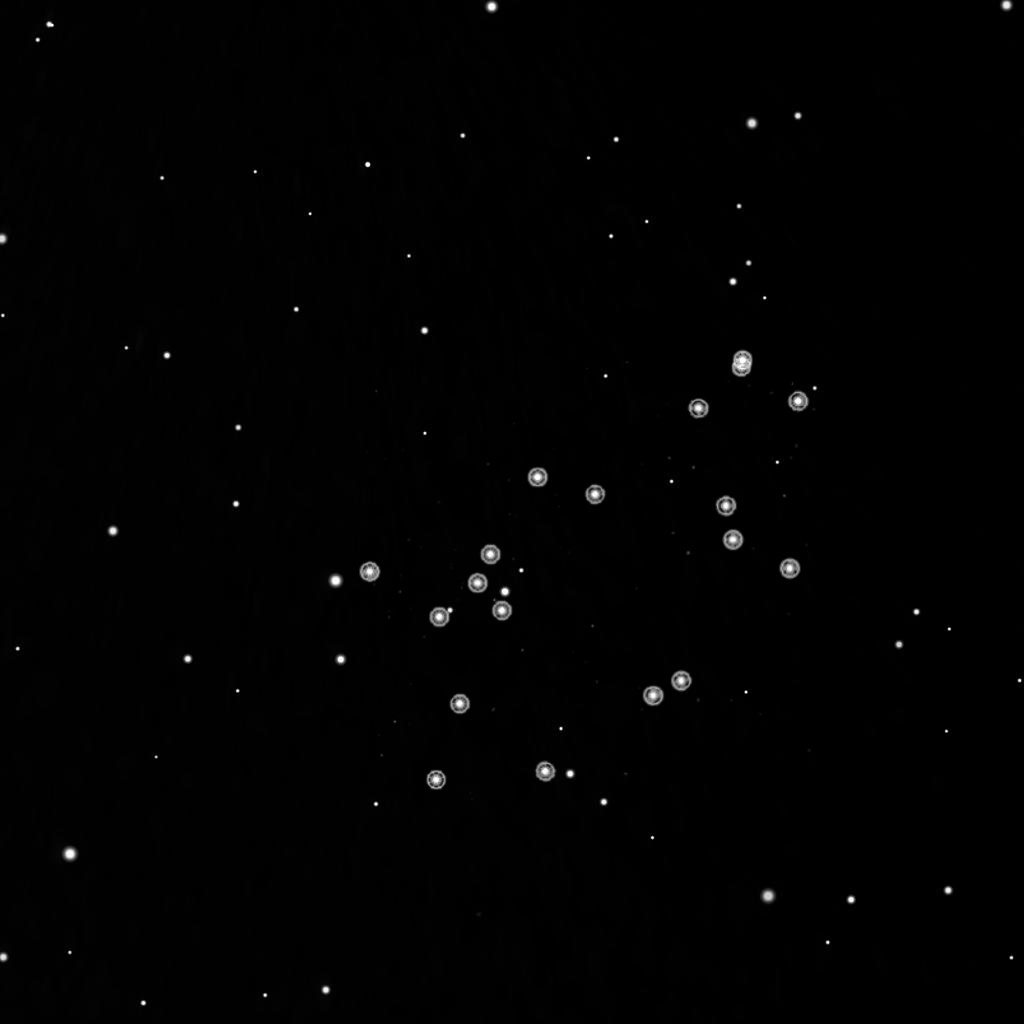canis_major: (419, 461, 616, 637)
